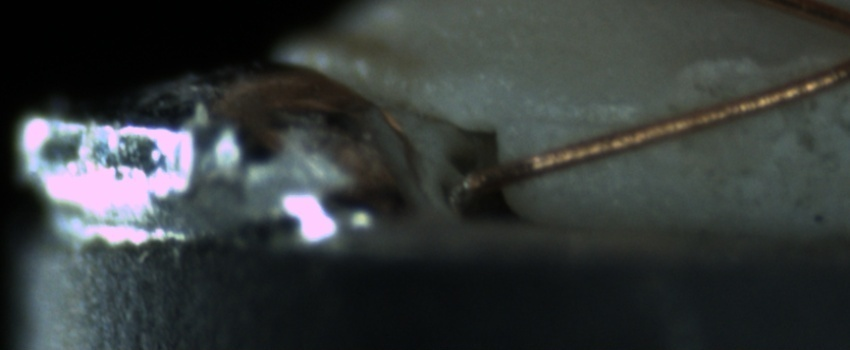DL: (524, 88, 662, 149)
